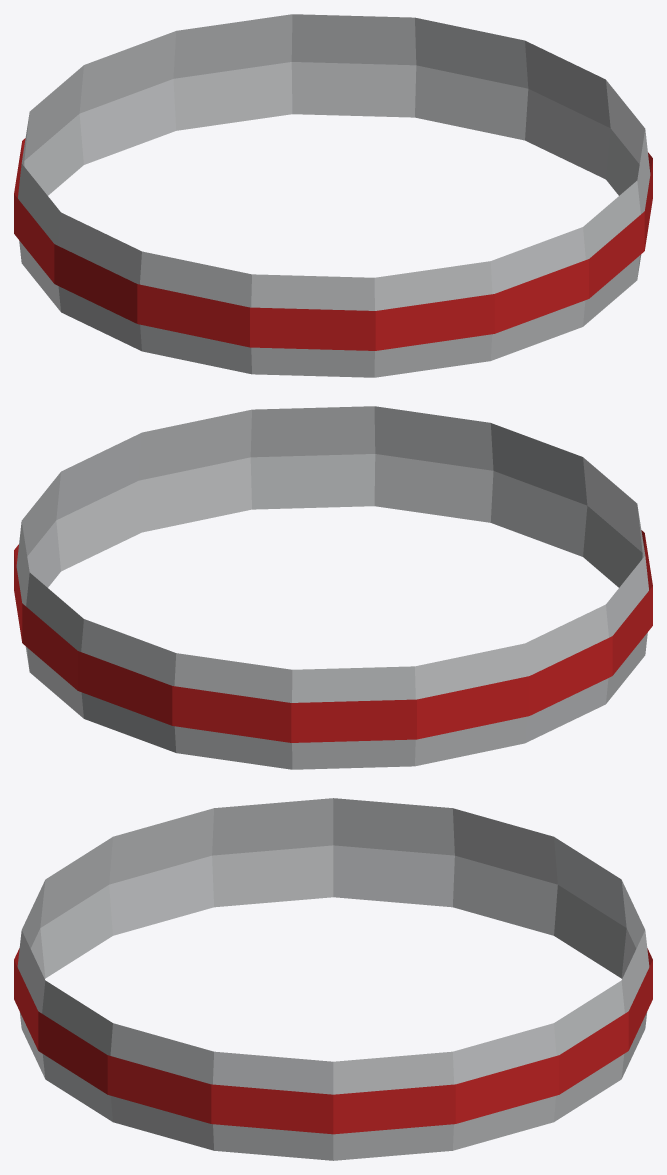
File: hat_10_sweatband_sports.glb
The picture shows the model from 3 angles, top to bottom: view 1: azimuth 30°, elevation 25°; view 2: azimuth 150°, elevation 25°; view 3: azimuth 270°, elevation 25°; orthographic projection.
Visible parts, largest first — view 1: Hat10_Band, Hat10_RedStripe; view 2: Hat10_Band, Hat10_RedStripe; view 3: Hat10_Band, Hat10_RedStripe.
Part boxes in pixels (x1,y1,x2,y2): Hat10_Band: (18,14,650,377); Hat10_RedStripe: (14,138,652,350); Hat10_Band: (16,406,648,769); Hat10_RedStripe: (14,530,652,742); Hat10_Band: (17,798,649,1160); Hat10_RedStripe: (14,948,652,1134).
Bounding box in the file's own units: 0.584 × 0.1 × 0.584.
